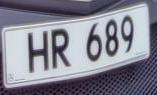6: (83, 17, 104, 68)
8: (103, 15, 121, 65)
9: (118, 12, 138, 56)
H: (25, 26, 52, 78)
R: (50, 24, 73, 75)
